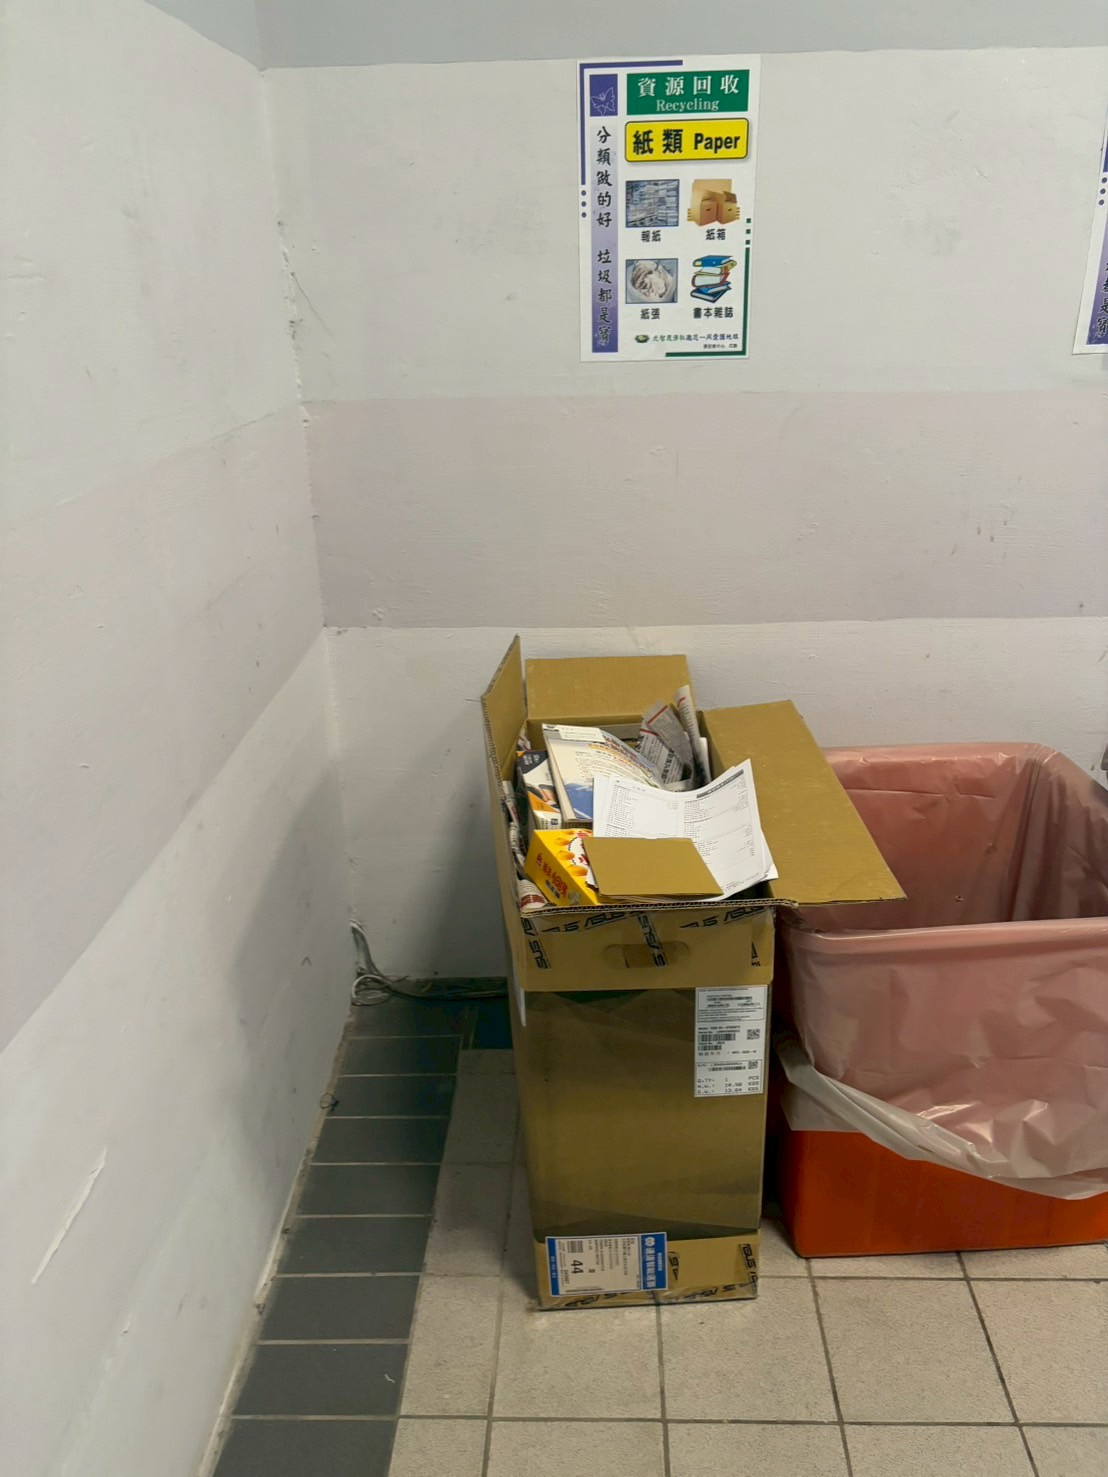overflow_bin: (429, 608, 922, 1330)
